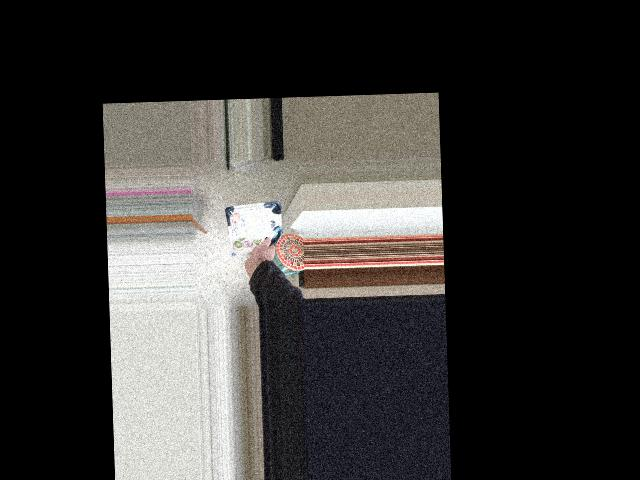cheese: (227, 212, 284, 275)
